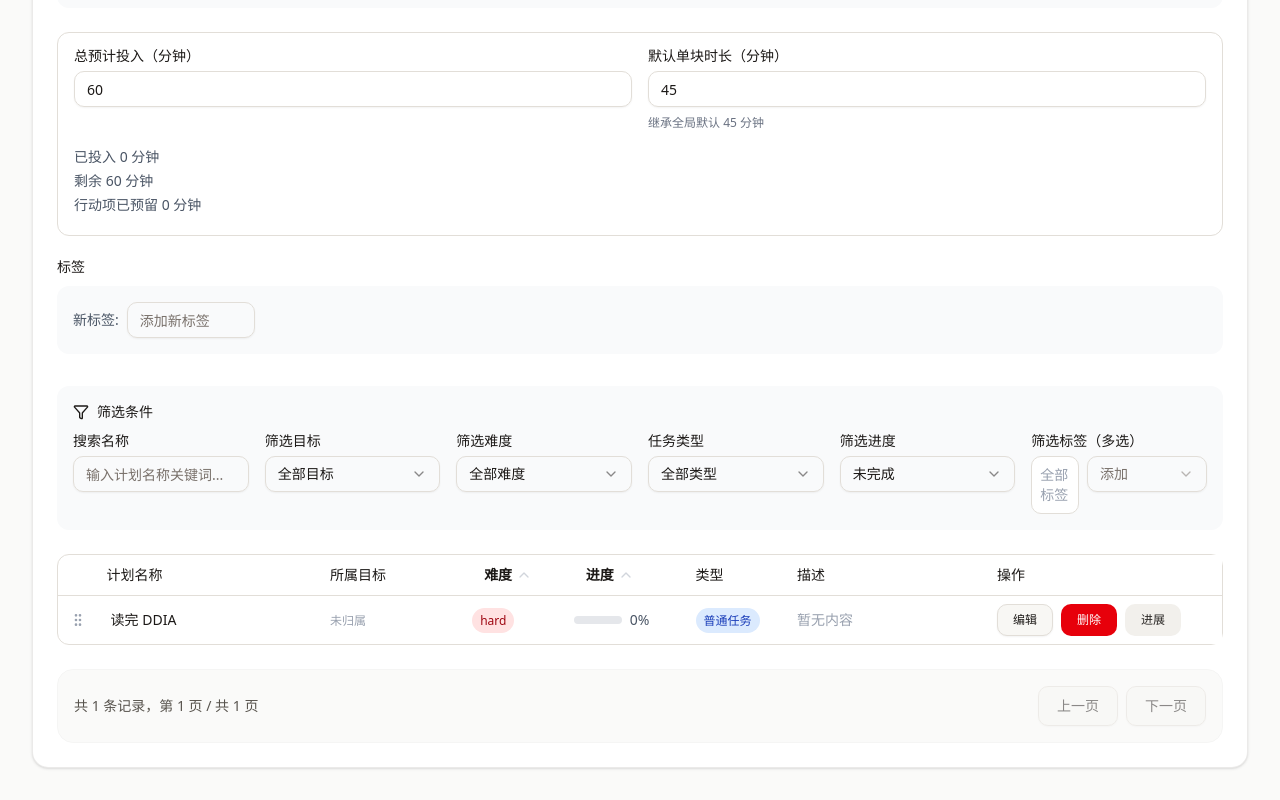
Test: PlansPage › keeps editing after a failed PUT and safely displays a text error
(page scrolled)
Click the button "编辑" at (1025, 620), box [997,604,1053,636]
(page scrolled)
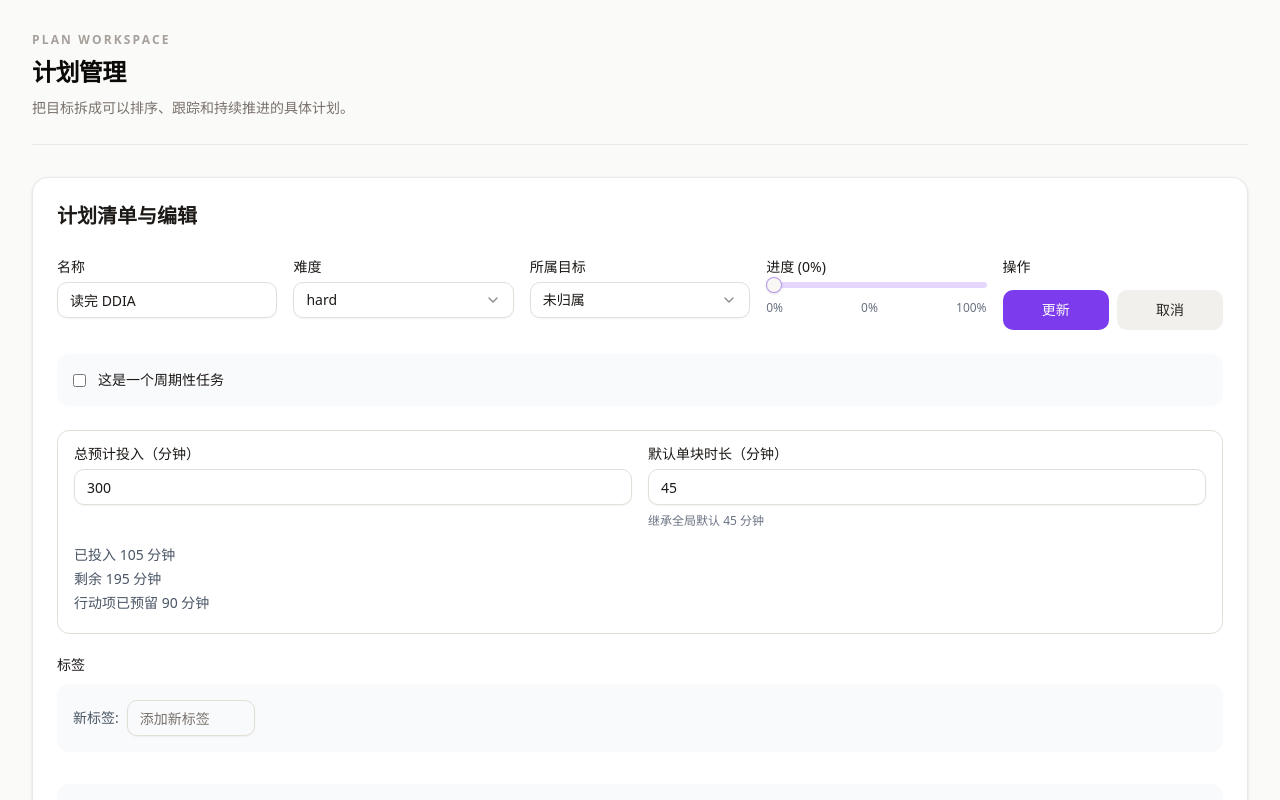
Replace the text in the field labelled "名称" with "修改后名称" at (167, 300), box [57,282,277,318]
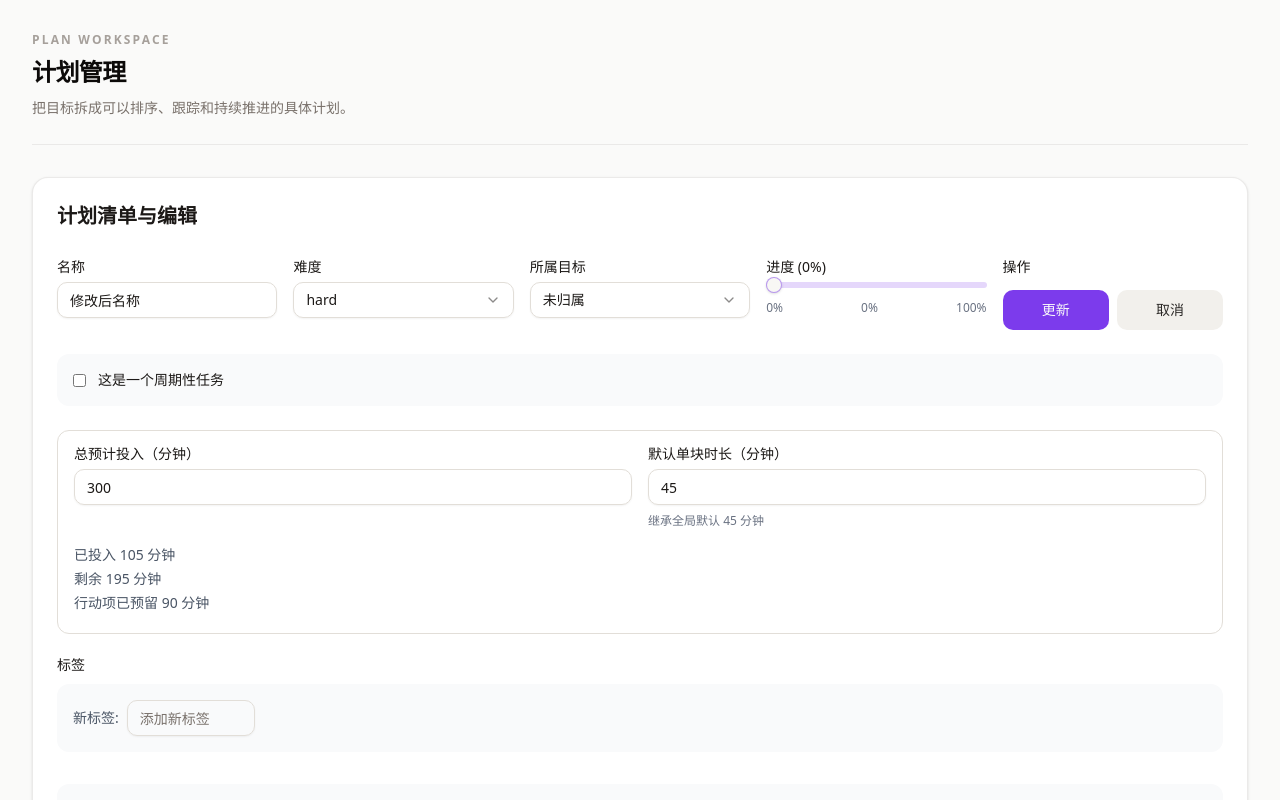
Click the button "更新" at (1056, 310), box [1003,290,1109,330]
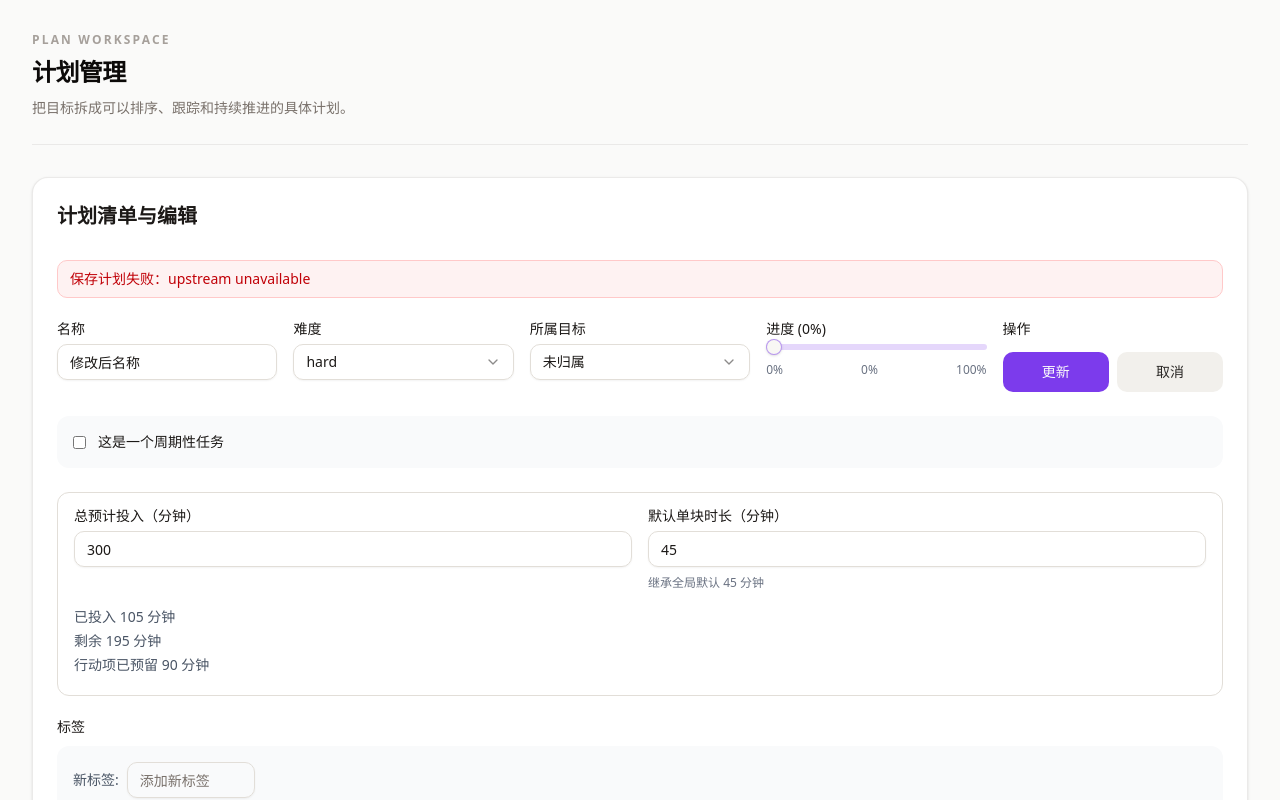
Check: the button "更新" is shown, box [1003,352,1109,392]
Check: the message shows "upstream unavailable", box [70,269,310,288]
